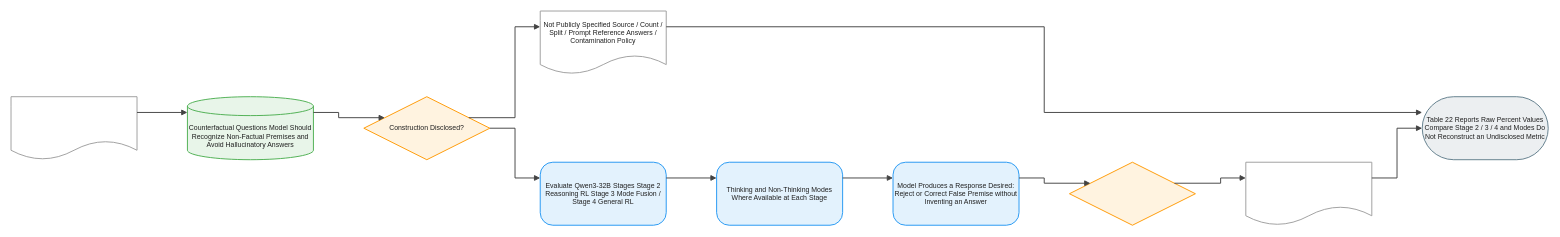
Image size: 1560x237. Some labels were removed from this diagram. Here are the shapes that lost their labels. From the top down, the centre of each, then its label:
(73,128): Qwen3 Technical Report In-House CounterFactQA Used for Post-Training Monitoring
(1132,193): Scoring Protocol Disclosed?
(1308,193): Not Publicly Specified Judge / Rubric / Score Unit Aggregation Formula
